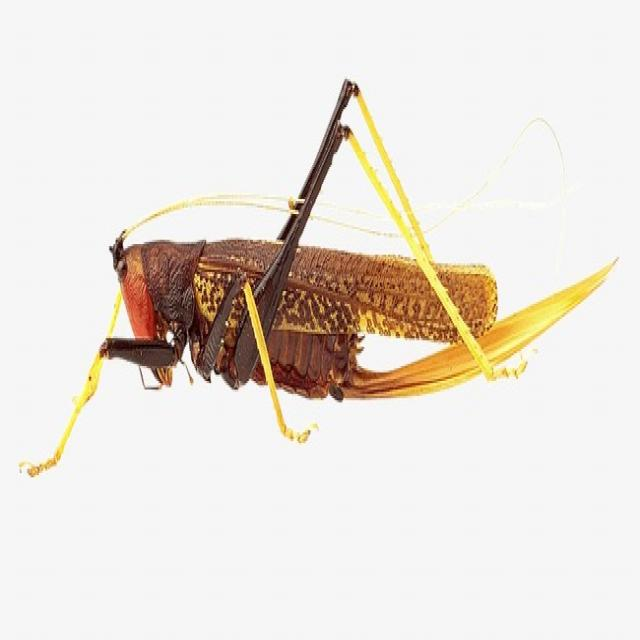ZhaMeng: (79, 78, 589, 485)
